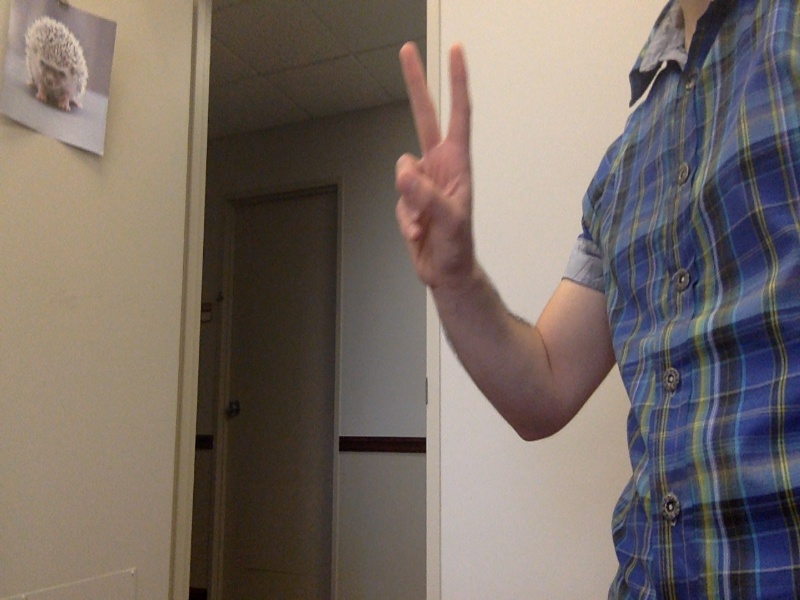2-hand: (395, 41, 482, 294)
